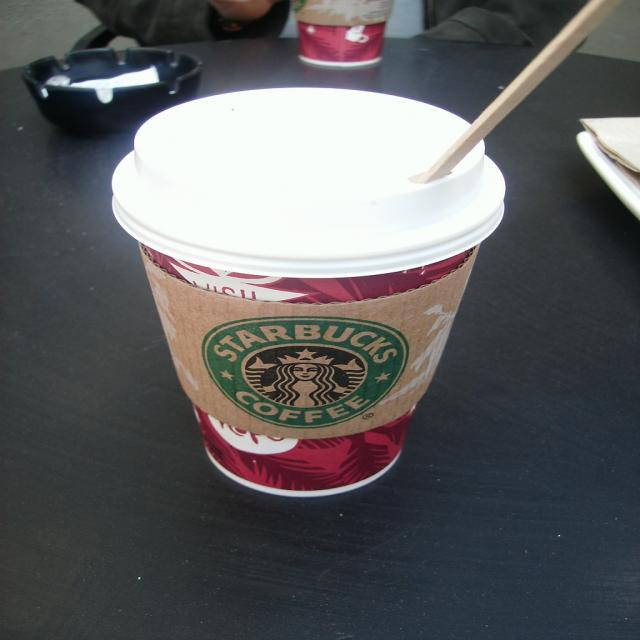starbucks: (199, 317, 410, 430)
